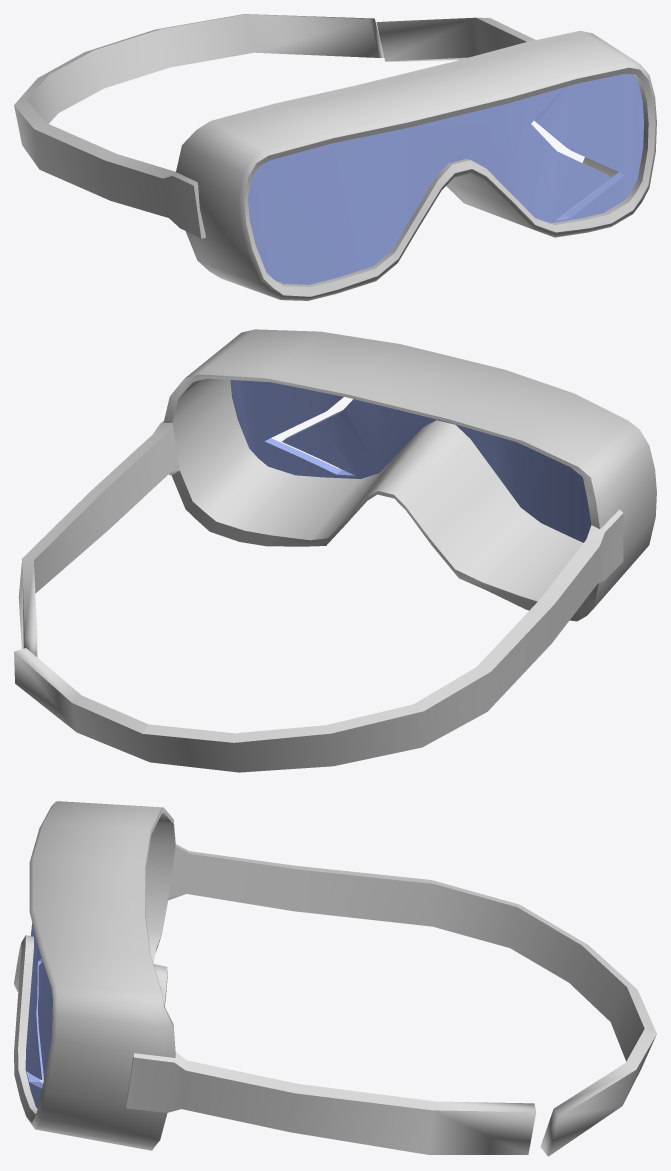
Rendered from Goggles_Destroy.fbx.
3 renders of one model, top to bottom at view 1: azimuth 30°, elevation 25°; view 2: azimuth 150°, elevation 25°; view 3: azimuth 270°, elevation 25°, orthographic. The views are drawn at different scales.
Visible parts, largest first — view 1: Goggles_Destr; view 2: Goggles_Destr; view 3: Goggles_Destr.
Boxes of the visible parts, <box> form: Goggles_Destr: <box>14,14,656,300</box>; Goggles_Destr: <box>14,329,656,772</box>; Goggles_Destr: <box>14,801,656,1156</box>.
Bounding box in the file's own units: 0.2091 × 0.0777 × 0.2445.
